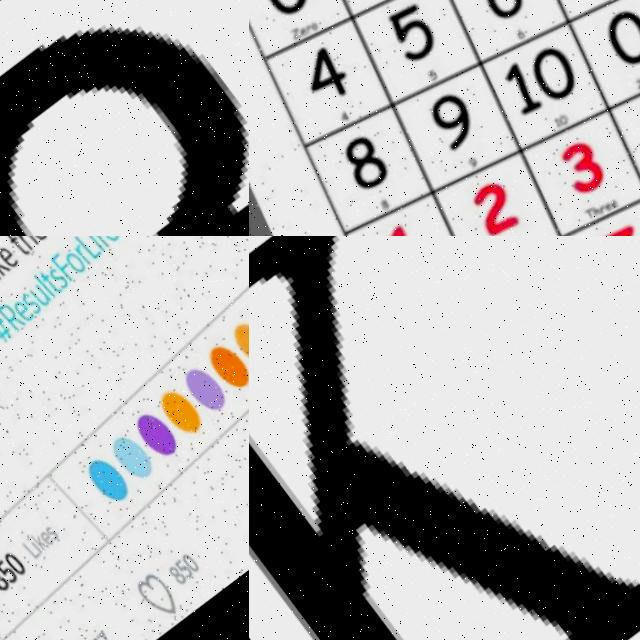0: (516, 30, 595, 113), (587, 0, 640, 78), (249, 0, 322, 27), (0, 548, 27, 579), (177, 550, 201, 577)
1: (485, 51, 558, 128), (367, 212, 446, 236)
2: (452, 166, 537, 236)
3: (0, 0, 249, 236), (544, 130, 620, 209)
4: (284, 31, 368, 119)
5: (368, 0, 452, 74), (171, 556, 195, 583), (0, 555, 20, 587)
6: (460, 0, 538, 32)
7: (576, 210, 640, 236), (93, 628, 117, 640)
8: (322, 120, 405, 205), (163, 560, 189, 590), (0, 560, 13, 597)
9: (410, 78, 492, 163)
K: (249, 236, 640, 640)
